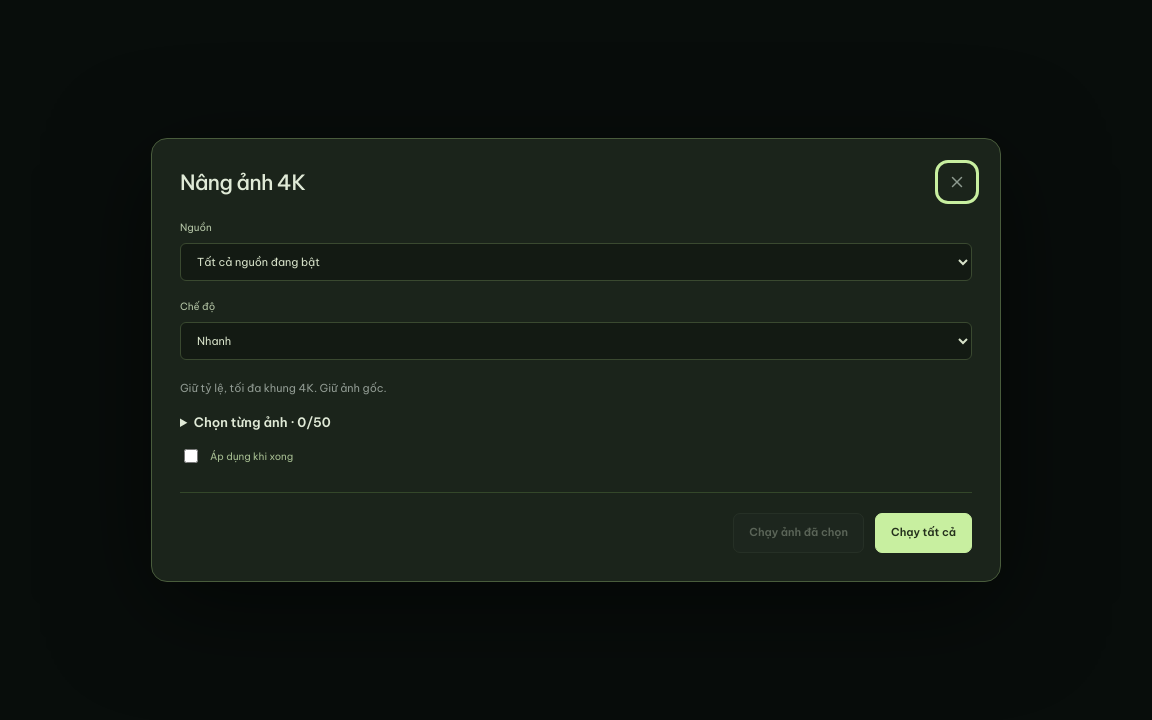
shows separate shared-runtime bytes if they are still needed
Select "AI" in the dropdown labelled "Chế độ": (576, 341) [180, 322, 972, 360]
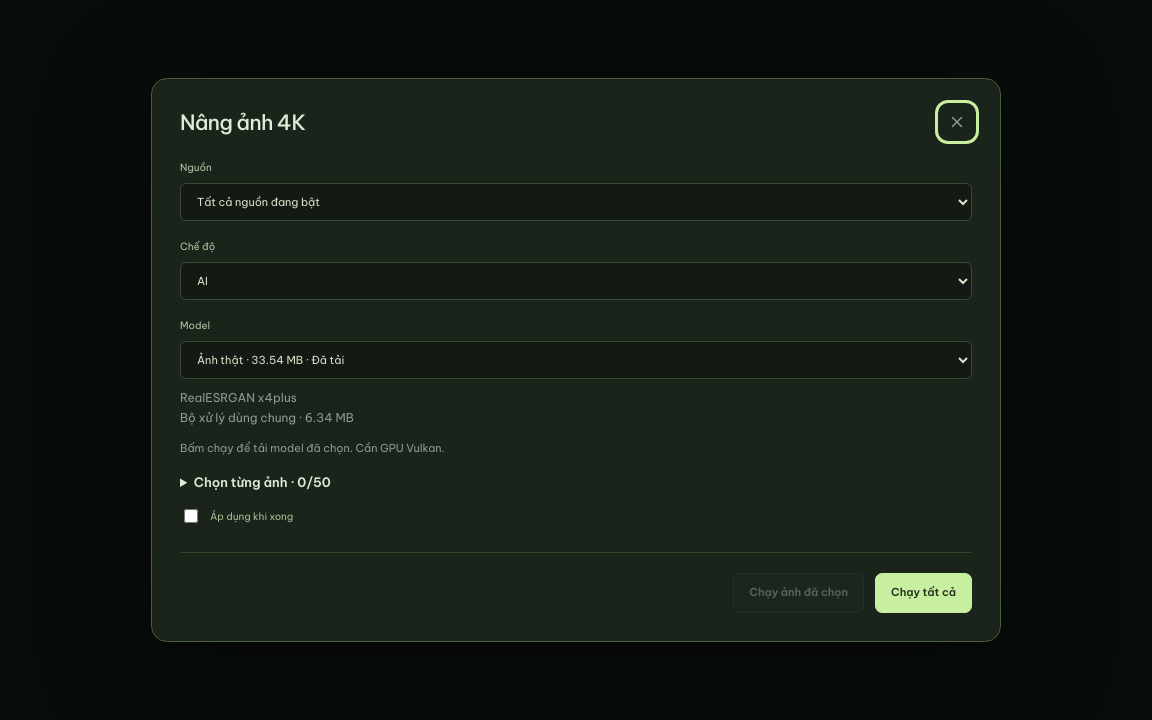
Result: the text "Bộ xử lý" is shown at [180, 410, 302, 425]
Result: the text "6.34 MB" is shown at [305, 410, 354, 425]
